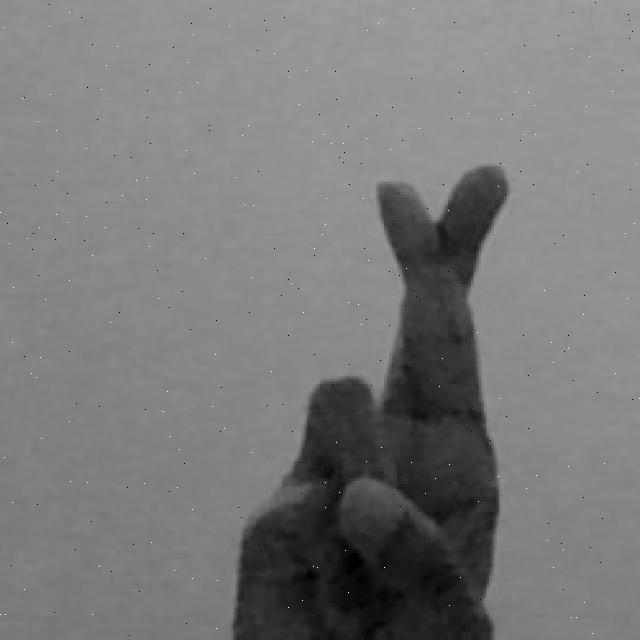R: (235, 161, 516, 640)
